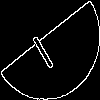I: (25, 25, 57, 72)
